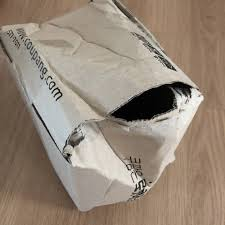damaged package: (32, 105, 168, 189), (105, 77, 194, 129)
